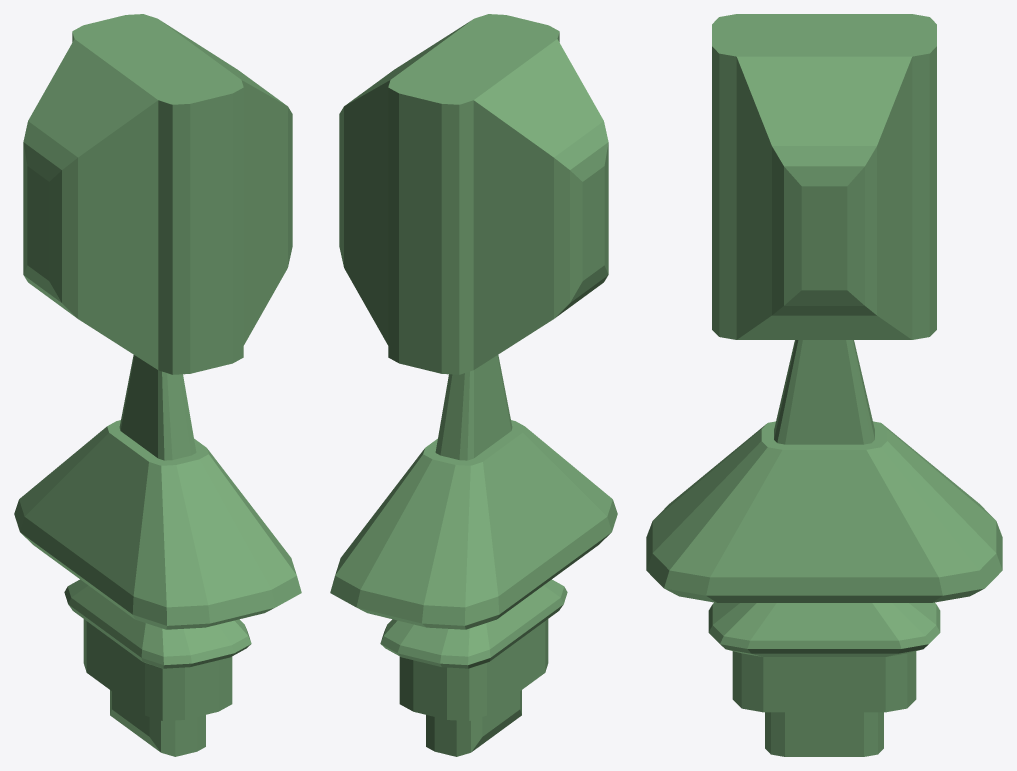
The model's file is Figure_7.fbx.
3 renders of one model, left to right at view 1: azimuth 30°, elevation 25°; view 2: azimuth 150°, elevation 25°; view 3: azimuth 270°, elevation 25°, orthographic. The views are drawn at different scales.
Visible parts, largest first — view 1: Figure_7; view 2: Figure_7; view 3: Figure_7.
Part boxes in pixels (x1,y1,x2,y2): Figure_7: [14, 14, 301, 756]; Figure_7: [330, 14, 617, 756]; Figure_7: [646, 14, 1002, 756].
Size of the model in its own units: 0.6596 by 0.8101 by 1.78.
